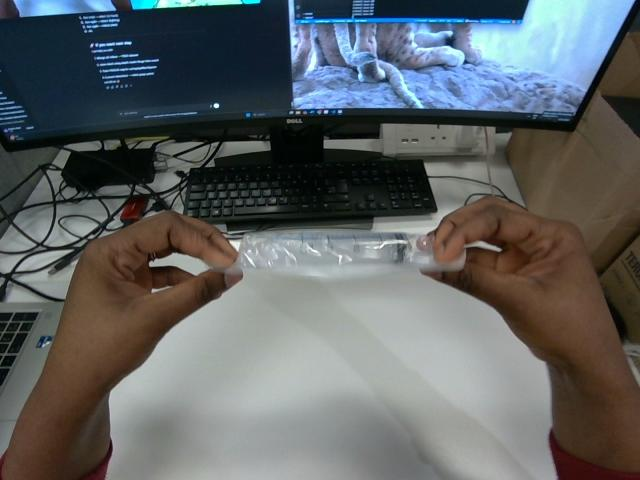syringe: (236, 231, 465, 276)
